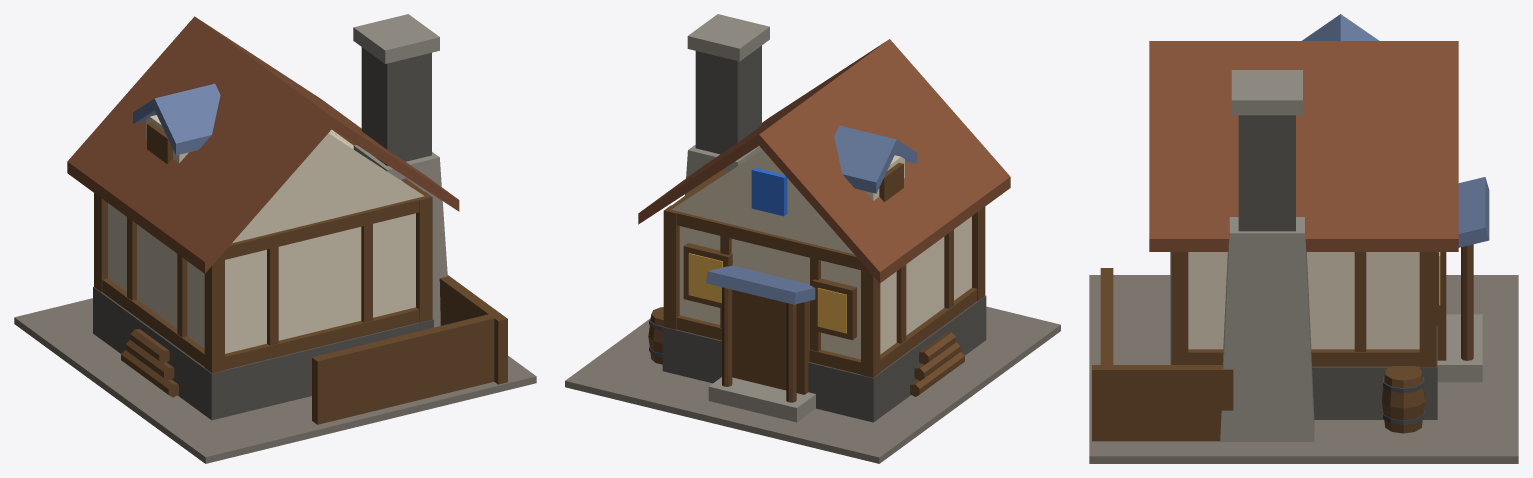
The model's file is House.obj.
3 renders of one model, left to right at view 1: azimuth 30°, elevation 25°; view 2: azimuth 150°, elevation 25°; view 3: azimuth 270°, elevation 25°, orthographic. The views are drawn at different scales.
Parts seen in each view (by area): view 1: House_timber, House_roof_cedar, House_plaster, House_dark_stone, House_cobble, House_stone, House_roof_team; view 2: House_roof_cedar, House_timber, House_cobble, House_plaster, House_dark_stone, House_stone, House_roof_team, House_window_glow, House_banner_team; view 3: House_roof_cedar, House_cobble, House_timber, House_stone, House_plaster, House_dark_stone, House_roof_team, House_iron.
Part boxes in pixels (x1,y1,x2,y2): House_timber: (94,122,507,424); House_roof_cedar: (67,16,459,273); House_plaster: (108,115,424,353); House_dark_stone: (93,47,433,420); House_cobble: (14,298,536,463); House_stone: (353,14,447,327); House_roof_team: (133,83,220,155); House_roof_cedar: (638,39,1010,283); House_timber: (648,162,985,402); House_cobble: (565,306,1060,463); House_plaster: (671,150,971,359); House_dark_stone: (662,45,986,422); House_stone: (685,14,815,422); House_roof_team: (706,125,917,304); House_window_glow: (688,253,846,333); House_banner_team: (751,167,787,216); House_roof_cedar: (1149,41,1458,251); House_cobble: (1089,275,1518,463); House_timber: (1092,244,1473,441); House_stone: (1220,70,1482,441); House_plaster: (1188,252,1419,349); House_dark_stone: (1170,115,1437,419); House_roof_team: (1302,14,1489,252); House_iron: (1383,376,1424,424).
Bounding box in the file's own units: 4.1 × 3.64 × 4.1.
